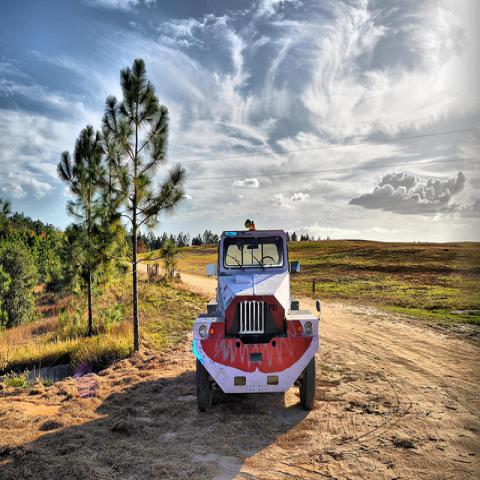truck: (192, 229, 322, 413)
